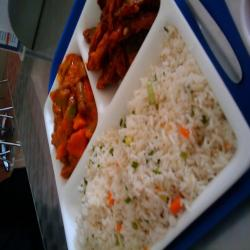rice: (76, 41, 240, 250)
